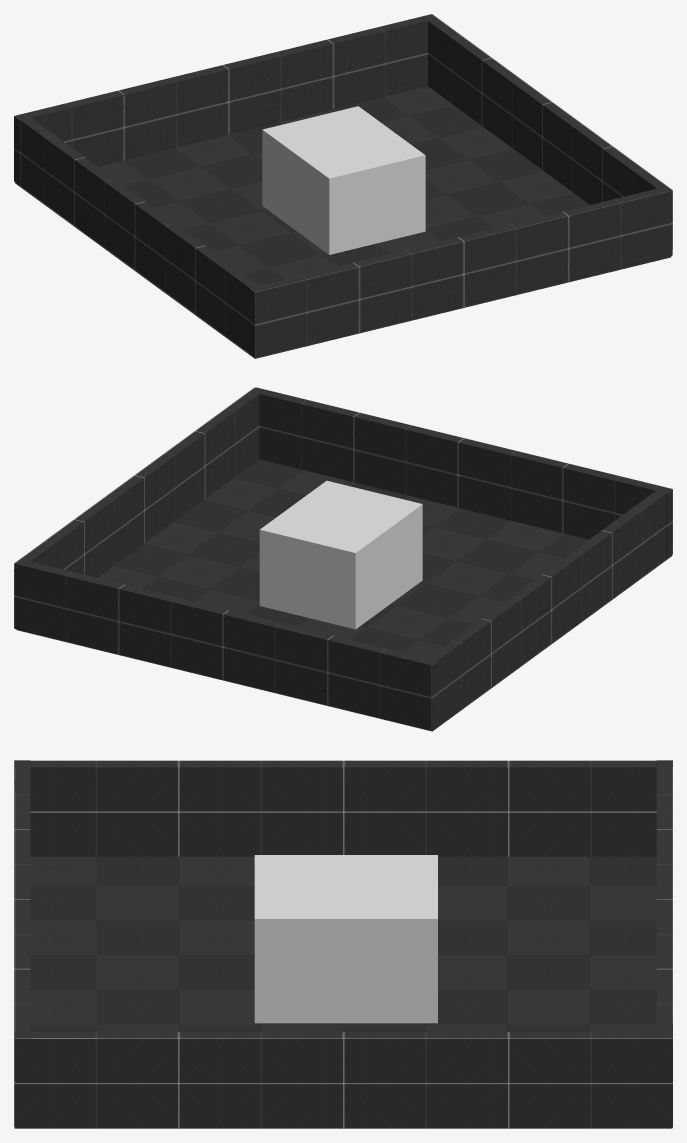
The model's file is polygon.glb.
The picture shows the model from 3 angles, top to bottom: view 1: azimuth 30°, elevation 25°; view 2: azimuth 150°, elevation 25°; view 3: azimuth 270°, elevation 25°; orthographic projection. The views are drawn at different scales.
Parts seen in each view (by area): view 1: Walls, Floor, Cube; view 2: Walls, Floor, Cube; view 3: Walls, Floor, Cube.
Boxes of the visible parts, left/top/right/bottom form: Walls: left=14, top=14, right=672, bottom=357; Floor: left=15, top=86, right=670, bottom=358; Cube: left=262, top=106, right=425, bottom=254; Walls: left=14, top=387, right=672, bottom=730; Floor: left=16, top=459, right=672, bottom=731; Cube: left=259, top=480, right=422, bottom=629; Walls: left=14, top=760, right=672, bottom=1128; Floor: left=14, top=856, right=671, bottom=1128; Cube: left=254, top=855, right=437, bottom=1023.
Bounding box in the file's own units: 40.16 × 7.01 × 40.11.
2 materials, 2 textured.
